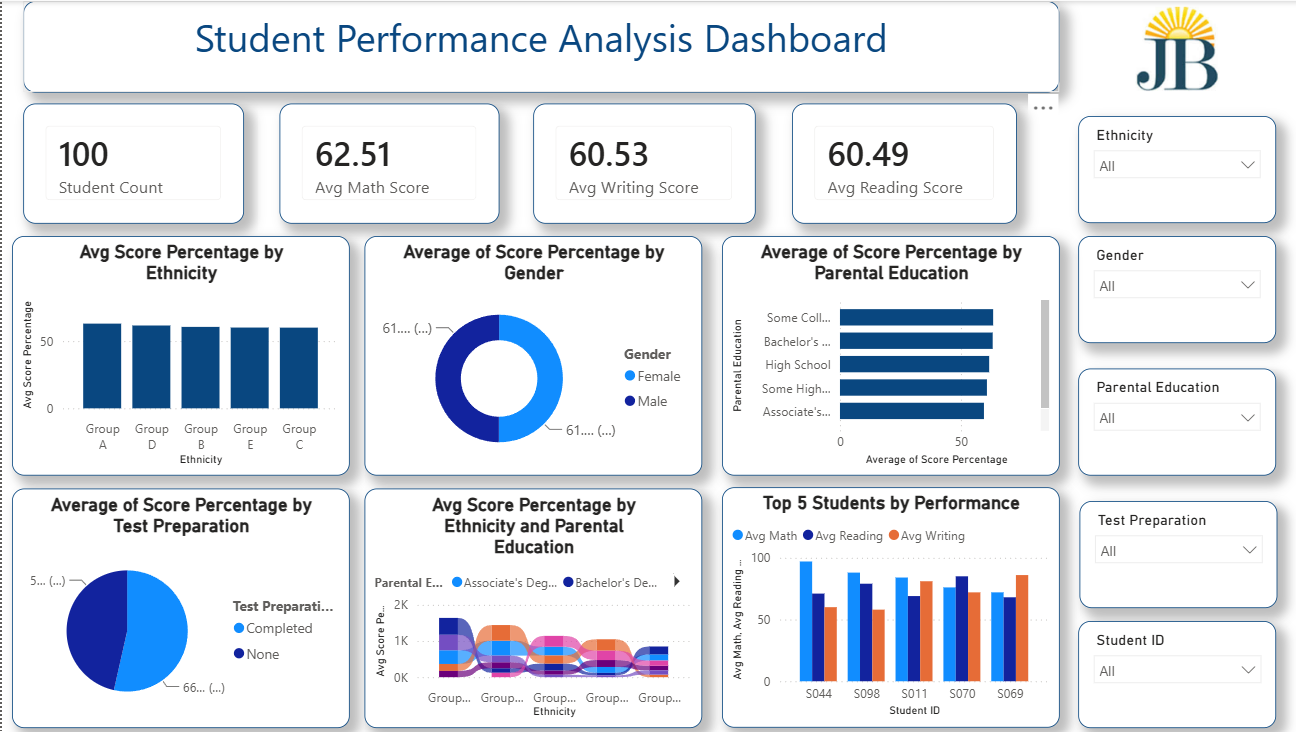

Layout of this report page (visuals, bound fields, positions):
{"tool":"powerbi","page":{"name":"All Subject Dashboard","canvas":[1280,720],"ordinal":0},"visuals":[{"type":"textbox","box":[20.8,0,1013.7,89.3],"z":0},{"type":"image","box":[1096.2,5,107.5,83.8],"z":1000},{"type":"cardVisual","fields":{"Data":["CountNonNull(Marks.Student ID)"]},"box":[21.2,100,216.2,117.5],"z":2000},{"type":"cardVisual","fields":{"Data":["Avg(Marks.Math Score)"]},"box":[271.2,100,215,117.5],"z":3000},{"type":"cardVisual","fields":{"Data":["Avg(Marks.Writing Score)"]},"box":[520,100,217.5,117.5],"z":4000},{"type":"cardVisual","fields":{"Data":["Avg(Marks.Reading Score)"]},"box":[772.5,100,220,117.5],"z":5000},{"type":"slicer","fields":{"Values":["Marks.Ethnicity"]},"box":[1052.9,112.5,193.2,105.2],"z":6000},{"type":"slicer","fields":{"Values":["Marks.Gender"]},"box":[1052.9,229.9,193.2,105.2],"z":7000},{"type":"slicer","fields":{"Values":["Marks.Parental Education"]},"box":[1052.9,359.5,193.2,105.2],"z":8000},{"type":"columnChart","fields":{"Category":["Marks.Ethnicity"],"Y":["Avg(Marks.Score Percentage)"]},"box":[9.8,229.9,330.2,234.8],"z":9000},{"type":"pieChart","fields":{"Category":["Marks.Test Preparation"],"Y":["Avg(Marks.Score Percentage)"]},"box":[9.8,476.9,330.2,234.8],"z":10000},{"type":"donutChart","fields":{"Category":["Marks.Gender"],"Y":["Avg(Marks.Score Percentage)"]},"box":[354.6,229.9,330.2,234.8],"z":11000},{"type":"clusteredBarChart","fields":{"Category":["Marks.Parental Education"],"Y":["Avg(Marks.Score Percentage)"]},"box":[704.4,229.9,330.2,234.8],"z":12000},{"type":"ribbonChart","fields":{"Category":["Marks.Ethnicity"],"Y":["Sum(Marks.Score Percentage)"],"Series":["Marks.Parental Education"]},"box":[354.6,476.9,330.2,234.8],"z":13000},{"type":"clusteredColumnChart","title":"Top 5 Students by Performance","fields":{"Y":["Avg(Marks.Math Score)","Avg(Marks.Reading Score)","Avg(Marks.Writing Score)"],"Category":["Marks.Student ID"]},"box":[703.8,476.2,330,235],"z":14000},{"type":"slicer","fields":{"Values":["Marks.Test Preparation"]},"box":[1053.8,488.8,193.8,105],"z":15000},{"type":"slicer","fields":{"Values":["Marks.Student ID"]},"box":[1052.5,606.2,193.8,105],"z":16000}]}

Visuals, with their boxes in screenshot pixels (x1, y1, x2, y2), scaled from the page's 1280x720 canvas onto the 1296x732 screenshot:
textbox: (x1=21, y1=0, x2=1047, y2=91)
image: (x1=1110, y1=5, x2=1219, y2=90)
cardVisual - CountNonNull(Marks.Student ID): (x1=21, y1=102, x2=240, y2=221)
cardVisual - Avg(Marks.Math Score): (x1=275, y1=102, x2=492, y2=221)
cardVisual - Avg(Marks.Writing Score): (x1=526, y1=102, x2=747, y2=221)
cardVisual - Avg(Marks.Reading Score): (x1=782, y1=102, x2=1005, y2=221)
slicer - Marks.Ethnicity: (x1=1066, y1=114, x2=1262, y2=221)
slicer - Marks.Gender: (x1=1066, y1=234, x2=1262, y2=341)
slicer - Marks.Parental Education: (x1=1066, y1=365, x2=1262, y2=472)
columnChart - Marks.Ethnicity x Avg(Marks.Score Percentage): (x1=10, y1=234, x2=344, y2=472)
pieChart - Marks.Test Preparation x Avg(Marks.Score Percentage): (x1=10, y1=485, x2=344, y2=724)
donutChart - Marks.Gender x Avg(Marks.Score Percentage): (x1=359, y1=234, x2=693, y2=472)
clusteredBarChart - Marks.Parental Education x Avg(Marks.Score Percentage): (x1=713, y1=234, x2=1048, y2=472)
ribbonChart - Marks.Ethnicity x Sum(Marks.Score Percentage): (x1=359, y1=485, x2=693, y2=724)
"Top 5 Students by Performance" clusteredColumnChart: (x1=713, y1=484, x2=1047, y2=723)
slicer - Marks.Test Preparation: (x1=1067, y1=497, x2=1263, y2=604)
slicer - Marks.Student ID: (x1=1066, y1=616, x2=1262, y2=723)
